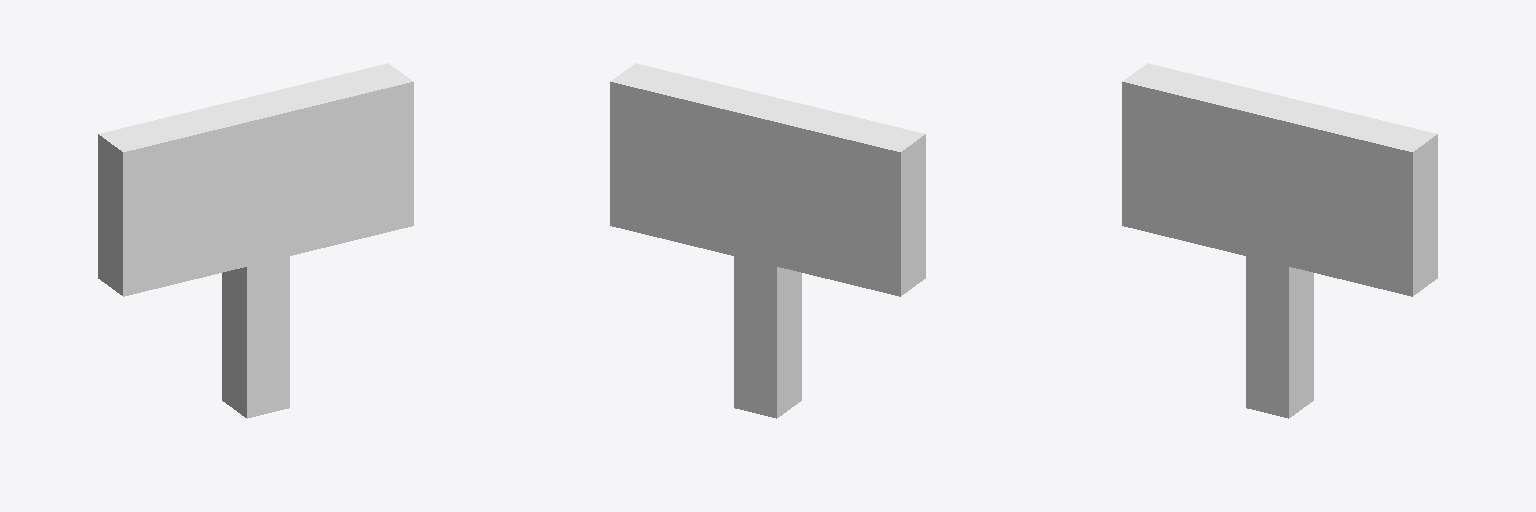
File: Cartello.obj
The picture shows the model from 3 angles: view 1: azimuth 30°, elevation 25°; view 2: azimuth 150°, elevation 25°; view 3: azimuth 330°, elevation 25°; orthographic projection.
Visible parts, largest first — view 1: object 1; view 2: object 1; view 3: object 1.
Part boxes in pixels (left/top/right/bottom): object 1: left=98, top=63, right=413, bottom=418; object 1: left=610, top=63, right=925, bottom=418; object 1: left=1122, top=63, right=1437, bottom=418.
Bounding box in the file's own units: 4 × 3.9 × 0.6.